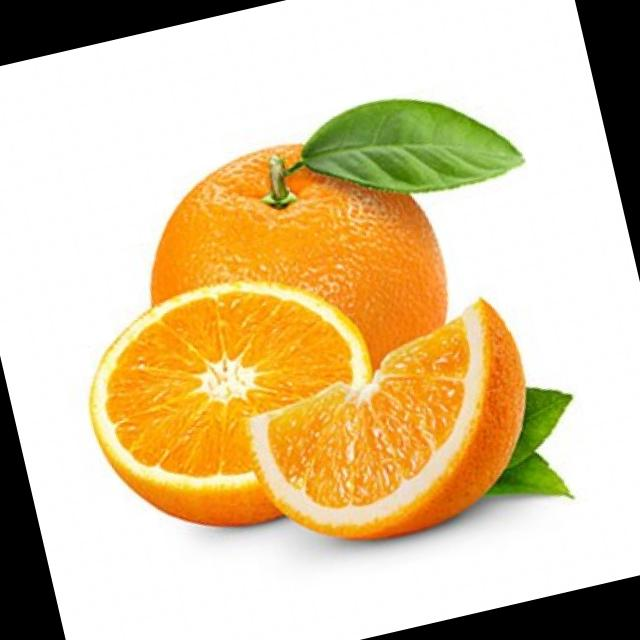orange: (106, 113, 494, 490)
